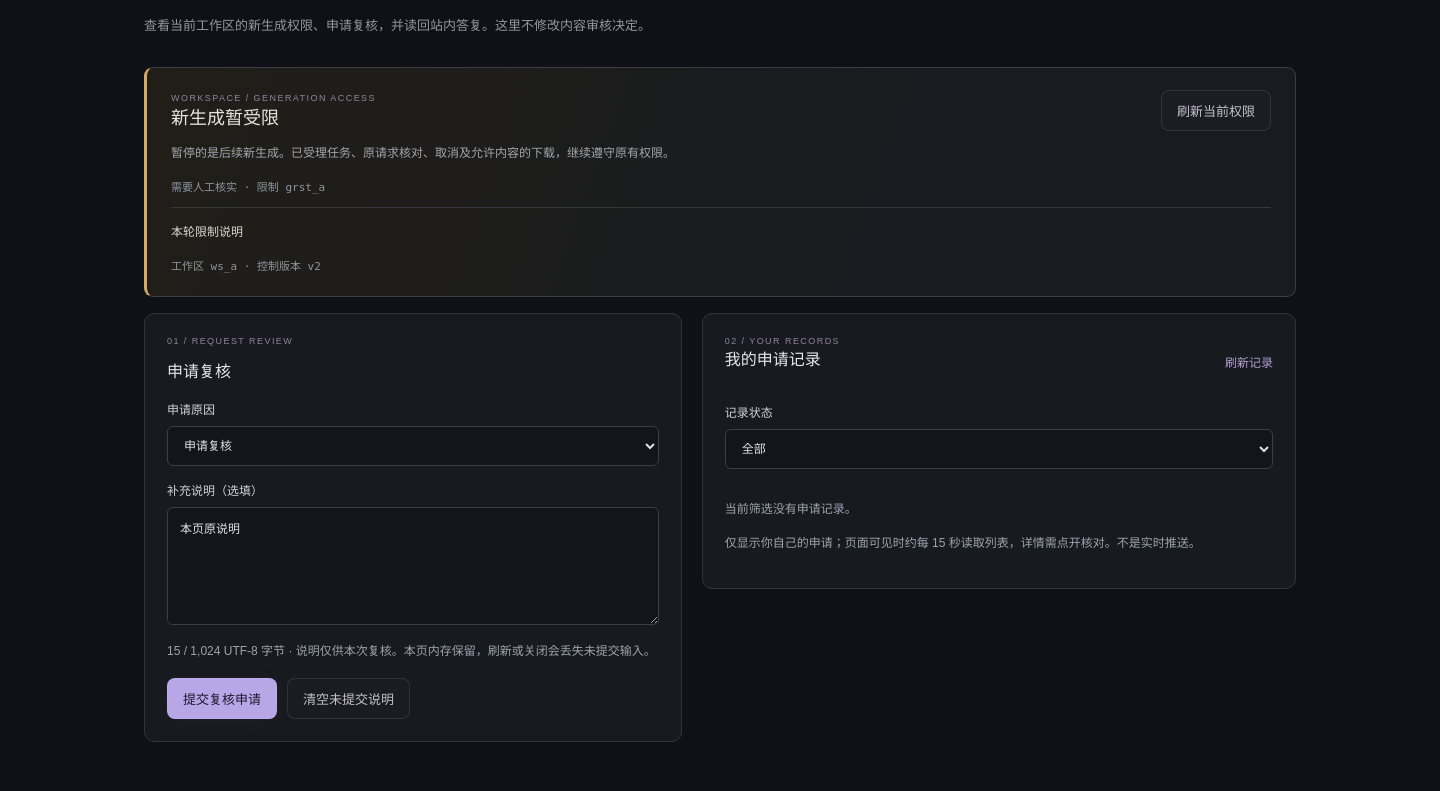
it: actual React StrictMode reads and superseded requests › does not let the old mounted appeal POST 401 clear a reauthenticated original-key retry
This screenshot has width=1440, height=791.
Later steps or results of the test are not shown.
(page scrolled)
Click the button "提交复核申请".
click(222, 698)  # box [167, 678, 277, 719]
(page scrolled)
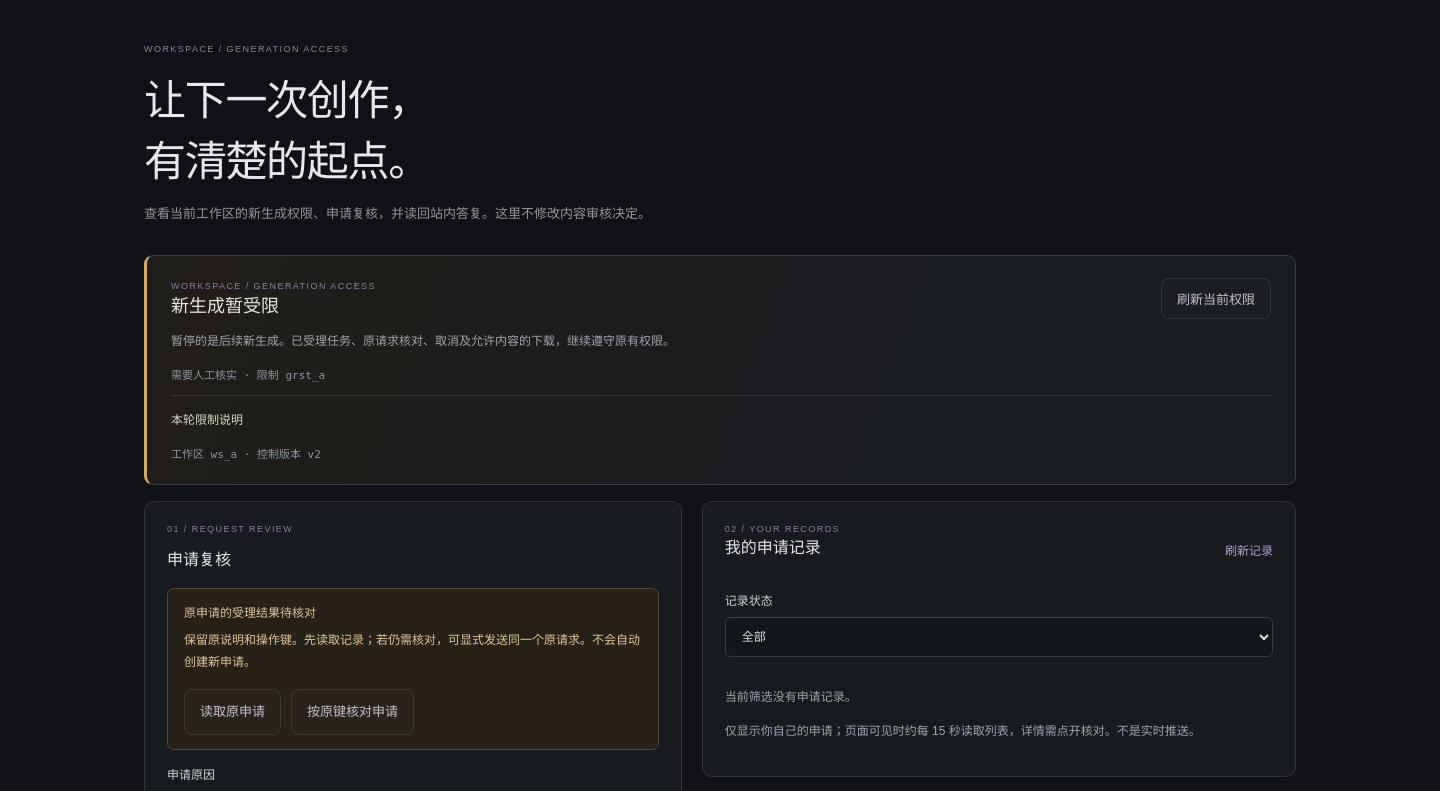
Result: the button "按原键核对申请" is shown at [291, 689, 414, 735]
